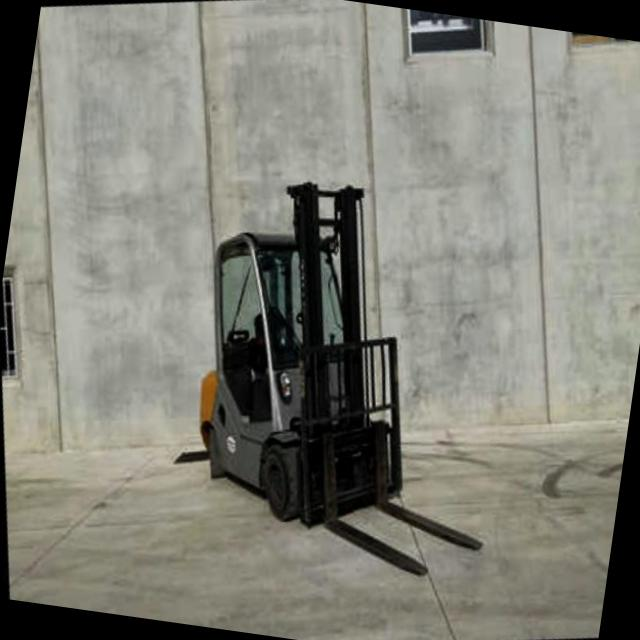forklift: (118, 138, 473, 573)
